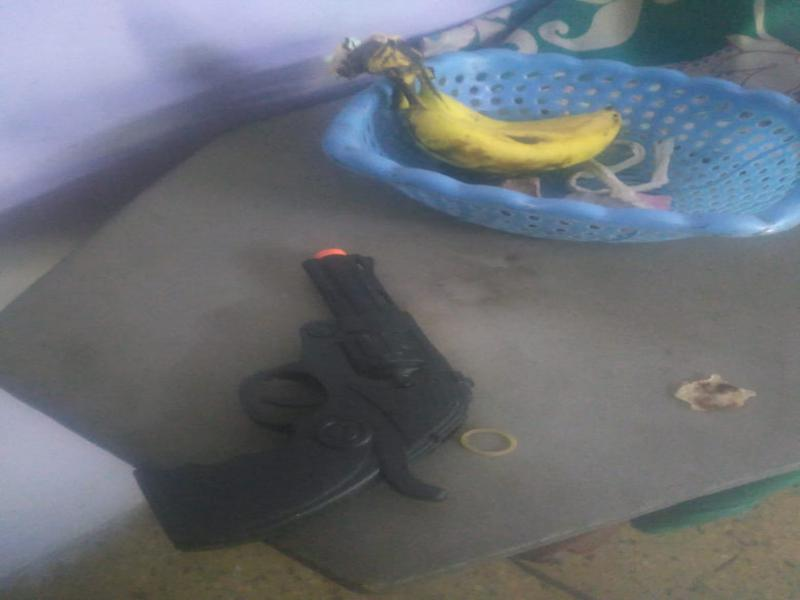gun: (122, 240, 474, 562)
